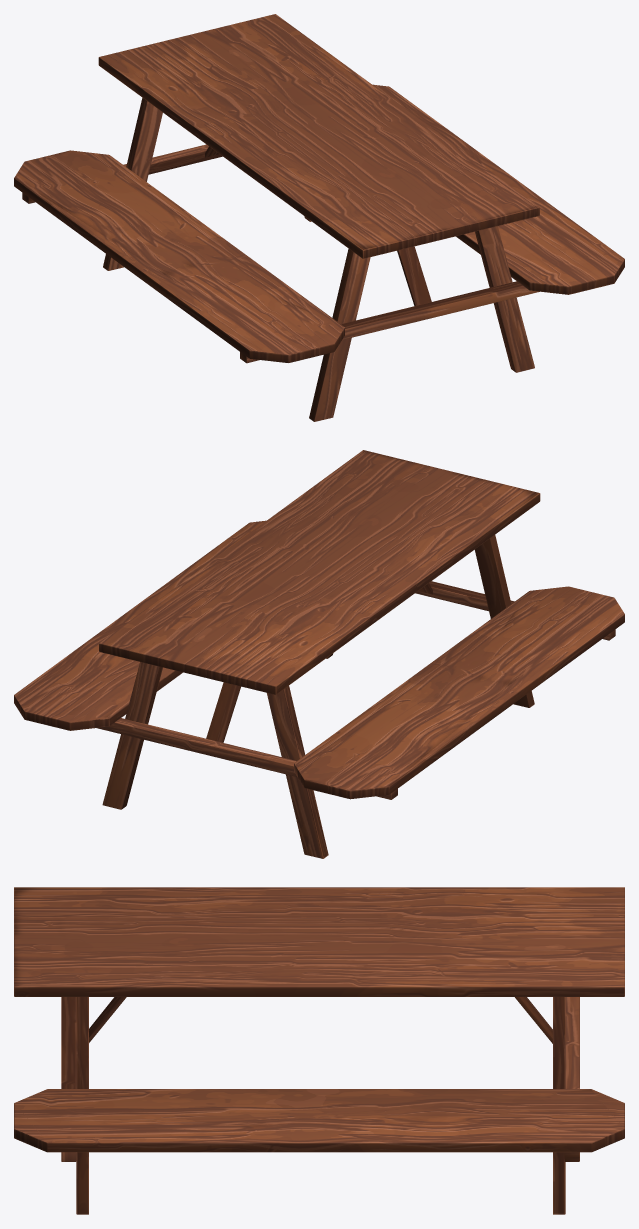
File: Park_Table.fbx
3 views of the same model, one above another, from view 1: azimuth 30°, elevation 25°; view 2: azimuth 150°, elevation 25°; view 3: azimuth 270°, elevation 25° (orthographic). The views are drawn at different scales.
Visible parts, largest first — view 1: Box080; view 2: Box080; view 3: Box080.
Boxes of the visible parts, box(x1,y1,x2,y2) form: Box080: box(14, 14, 624, 421); Box080: box(14, 450, 624, 858); Box080: box(14, 887, 624, 1214).
Bounding box in the file's own units: 58.88 × 71.77 × 27.94.
